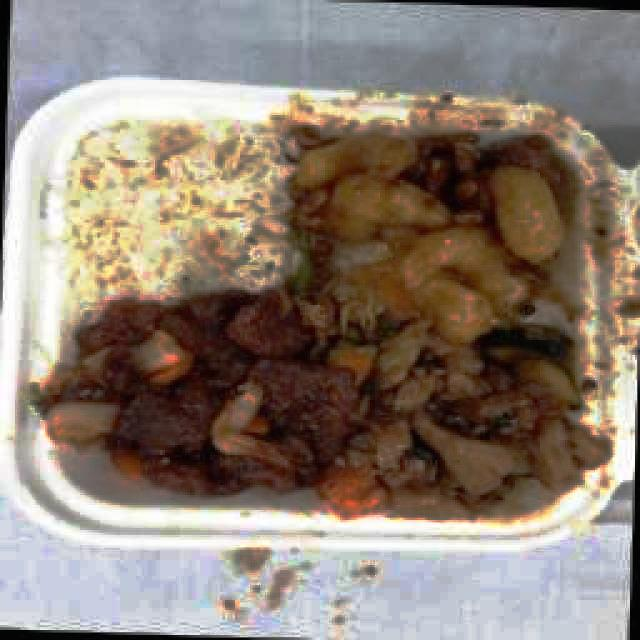Beijing Beef: (62, 300, 350, 492)
Kung Pao Chicken: (351, 320, 560, 506)
rice: (69, 130, 279, 296)
